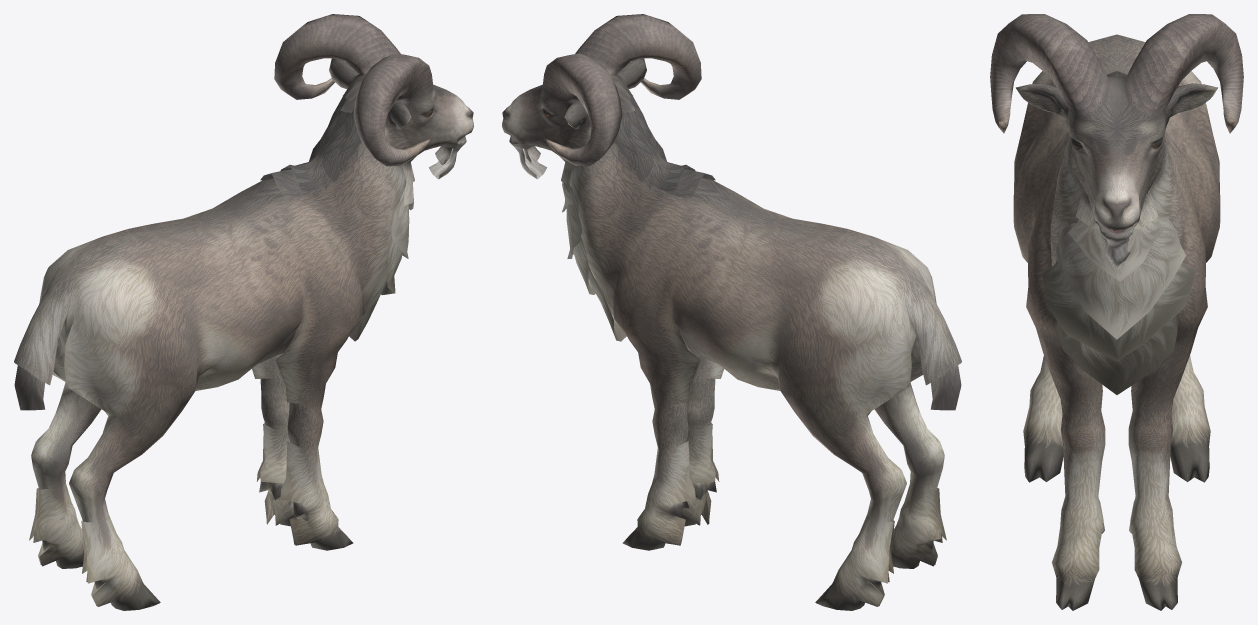
File: Goat.fbx
3 renders of one model, left to right at view 1: azimuth 30°, elevation 25°; view 2: azimuth 150°, elevation 25°; view 3: azimuth 270°, elevation 25°, orthographic. The views are drawn at different scales.
Visible parts, largest first — view 1: AN_NPC_MOB_GoatA_A01_SK_ERC.001; view 2: AN_NPC_MOB_GoatA_A01_SK_ERC.001; view 3: AN_NPC_MOB_GoatA_A01_SK_ERC.001.
Boxes of the visible parts, x1,y1,x2,y2 form: AN_NPC_MOB_GoatA_A01_SK_ERC.001: [14, 14, 473, 610]; AN_NPC_MOB_GoatA_A01_SK_ERC.001: [502, 14, 961, 610]; AN_NPC_MOB_GoatA_A01_SK_ERC.001: [990, 14, 1243, 610].
Bounding box in the file's own units: 32.81 × 32.89 × 12.37.
1 material, 1 textured.
